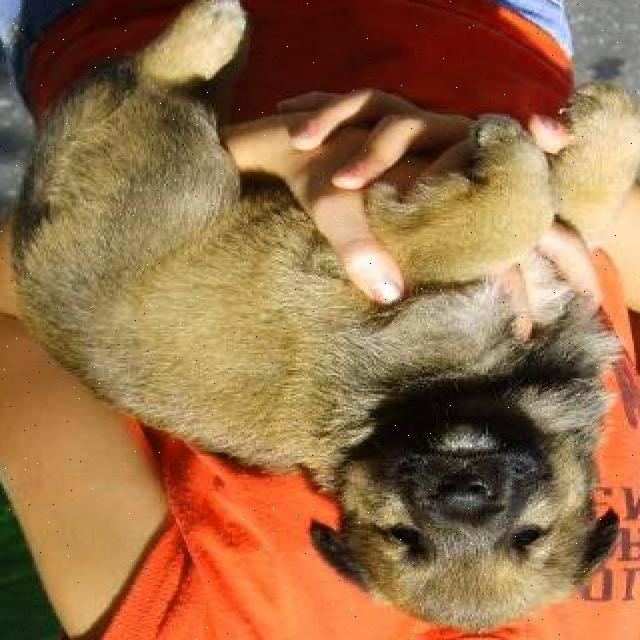Dog: (308, 406, 626, 632)
